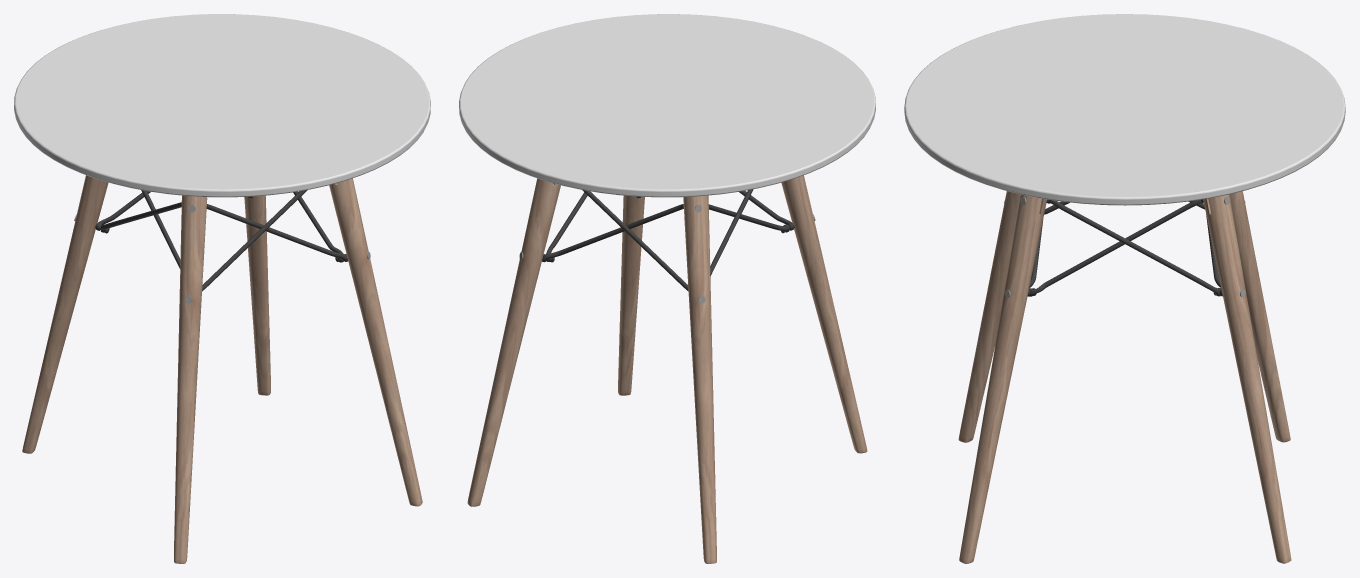
Rendered from endtable-9.gltf.
The picture shows the model from 3 angles, left to right: view 1: azimuth 30°, elevation 25°; view 2: azimuth 150°, elevation 25°; view 3: azimuth 270°, elevation 25°; orthographic projection. The views are drawn at different scales.
Visible parts, largest first — view 1: Eiffel table; view 2: Eiffel table; view 3: Eiffel table.
Part boxes in pixels (x1=…): Eiffel table: x1=14, y1=14, x2=430, y2=563; Eiffel table: x1=459, y1=14, x2=875, y2=563; Eiffel table: x1=904, y1=14, x2=1345, y2=563.
Size of the model in its own units: 0.4757 by 0.4745 by 0.4801.
1 material, 1 textured.
